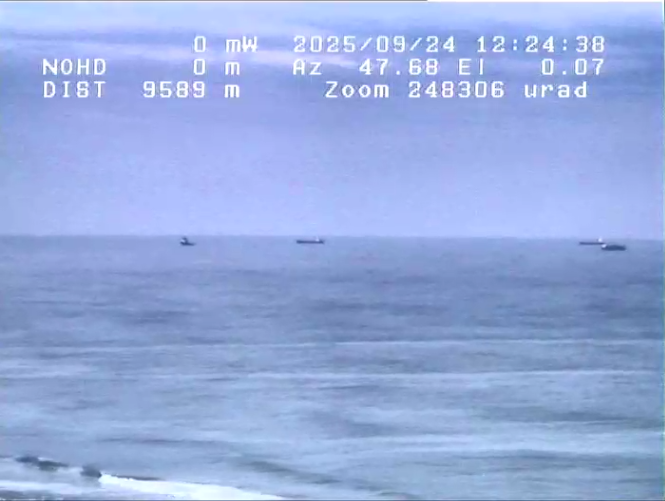OFFSHORE_SUPPLY_VESSEL: (172, 231, 204, 252)
TANKER: (286, 227, 335, 251), (575, 235, 608, 244)
